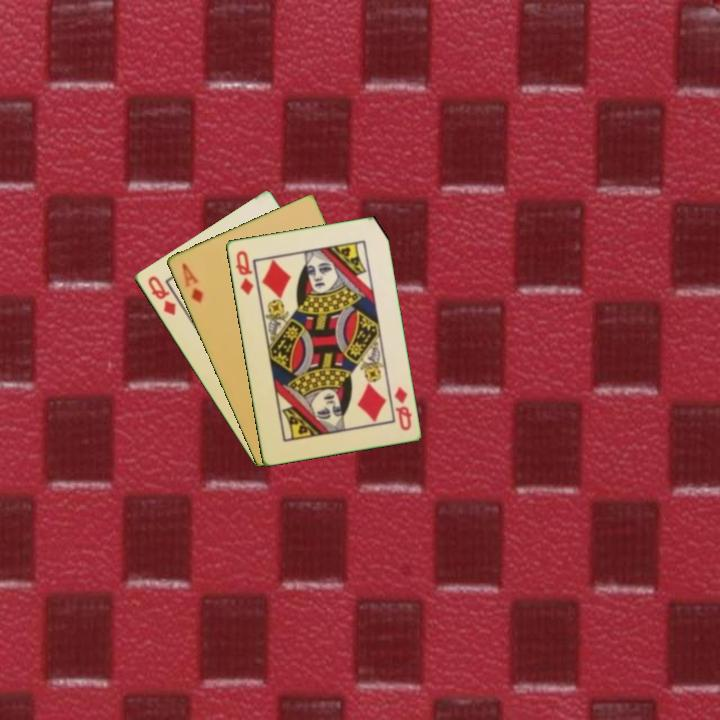Ad: (178, 259, 206, 307)
Qd: (144, 272, 179, 318), (231, 247, 256, 298), (390, 383, 414, 433)
